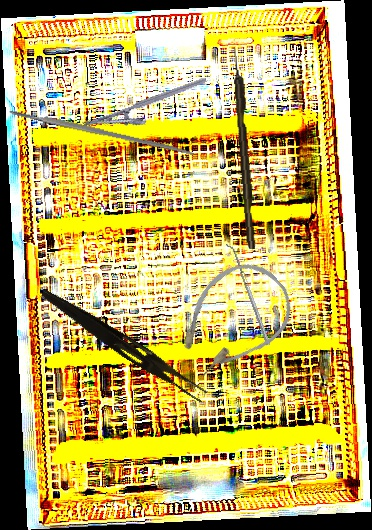Cannula: (159, 247, 306, 393)
Dressing Forceps: (35, 286, 212, 404)
Hook Surgical: (232, 47, 256, 250)
Needle Holder: (81, 76, 214, 145)
Scalpel Handle: (8, 106, 195, 158)
Spatula Surgical: (225, 241, 271, 348)
